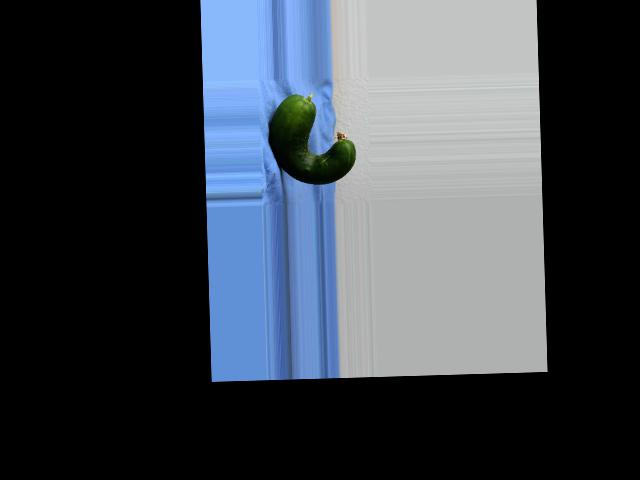cucumber: (268, 92, 356, 186)
